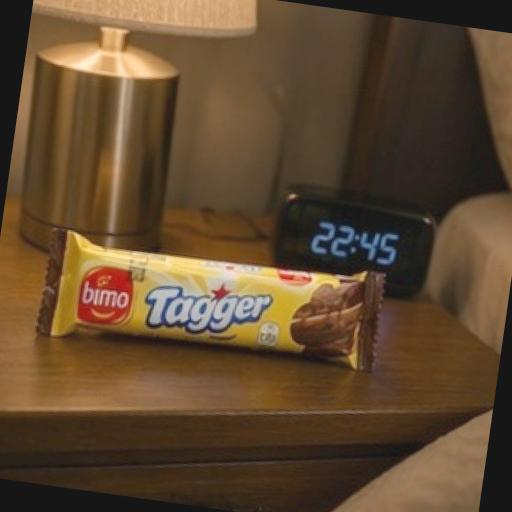tagger: (15, 176, 446, 441)
